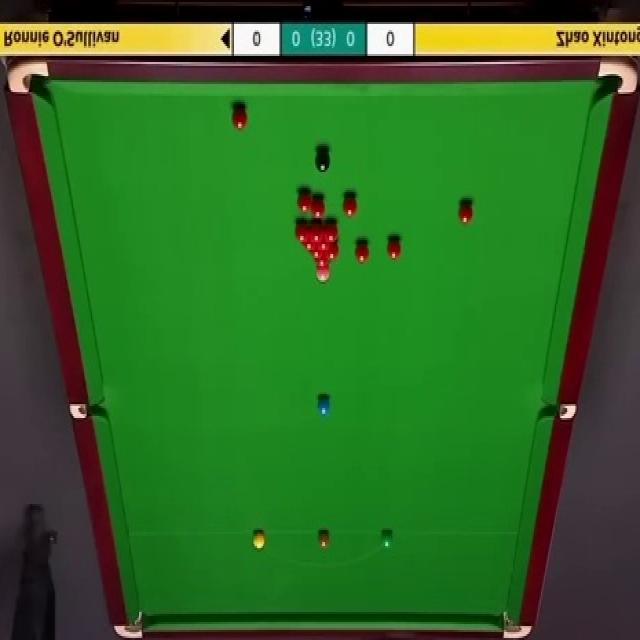black-ball: (314, 144, 331, 174)
blue-ball: (316, 395, 332, 420)
brown-ball: (317, 529, 331, 549)
green-ball: (382, 528, 396, 550)
pink-ball: (315, 268, 331, 284)
red-ball: (458, 198, 475, 226), (341, 192, 358, 218), (354, 239, 371, 265), (322, 144, 340, 168), (387, 235, 402, 260), (232, 106, 247, 130), (297, 188, 312, 212), (311, 194, 325, 219), (294, 220, 309, 243), (324, 220, 338, 243), (310, 222, 323, 242), (325, 244, 339, 260), (316, 242, 333, 252), (308, 250, 326, 259), (302, 242, 316, 252), (315, 259, 330, 268)
yellow-ball: (252, 530, 266, 550)
